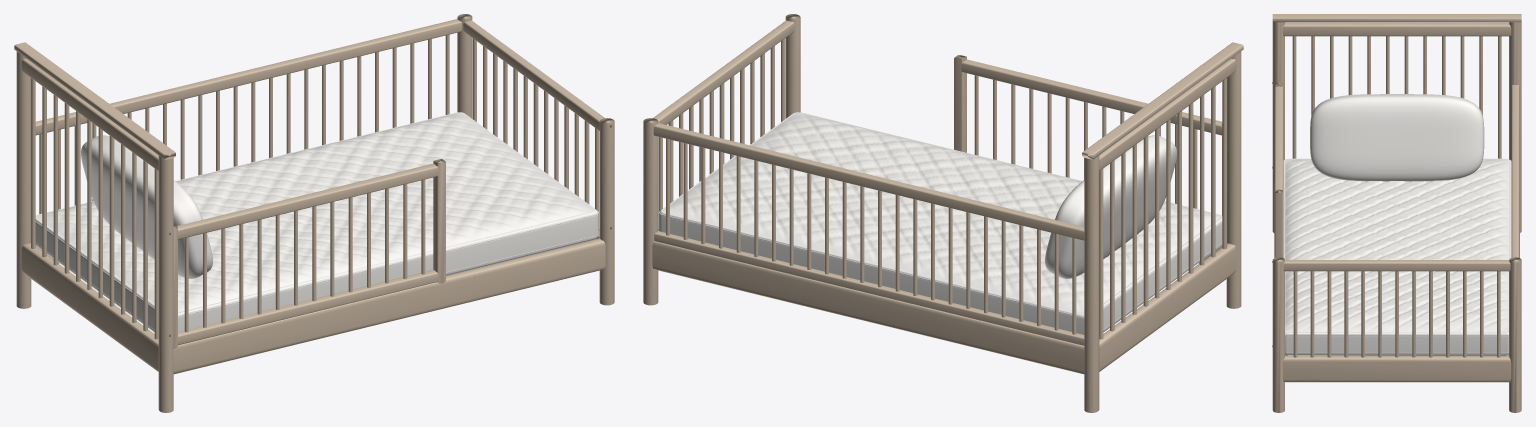
Rendered from bling3_beige_kids.glb.
3 views of the same model, side by side, from view 1: azimuth 30°, elevation 25°; view 2: azimuth 150°, elevation 25°; view 3: azimuth 270°, elevation 25° (orthographic). The views are drawn at different scales.
Parts seen in each view (by area): view 1: White diamond quilted comforter, Solid long base rail, Rounded bed post (×4), Fitted ivory mattress covering bed deck 2000 x 1110 x 120 mm, Soft white rectangular pillow, Back full top rail, End base rail, Front fixed top rail, Front fixed lower rail, Head floating crown, Foot upper rail, Head upper cross rail (+14 smaller); view 2: White diamond quilted comforter, Solid long base rail, Rounded bed post (×4), Fitted ivory mattress covering bed deck 2000 x 1110 x 120 mm, Soft white rectangular pillow, Back full top rail, Back lower rail, End base rail, Front fixed top rail, Head floating crown, Foot upper rail, Head upper cross rail (+14 smaller); view 3: White diamond quilted comforter, Soft white rectangular pillow, Rounded bed post (×4), End base rail, Fitted ivory mattress covering bed deck 2000 x 1110 x 120 mm, Head upper cross rail, Foot upper rail, Head floating crown, Back full top rail, Front fixed top rail, Front fixed rounded mounting stile, Head vertical spindle 11 (+21 smaller).
Part boxes in pixels (x1,y1,x2,y2): White diamond quilted comforter: (36,112,595,312); Solid long base rail: (173,238,605,374); Rounded bed post (×4): (16,14,614,412); Fitted ivory mattress covering bed deck 2000 x 1110 x 120 mm: (35,112,598,332); Soft white rectangular pillow: (81,135,212,278); Back full top rail: (35,19,462,135); End base rail: (21,243,158,371); Front fixed top rail: (177,163,438,239); Front fixed lower rail: (177,269,438,345); Head floating crown: (14,42,175,159); Foot upper rail: (463,20,604,130); Head upper cross rail: (21,58,158,170); White diamond quilted comforter: (662,112,1221,313); Solid long base rail: (652,241,1084,374); Rounded bed post (×4): (643,14,1241,412); Fitted ivory mattress covering bed deck 2000 x 1110 x 120 mm: (659,112,1222,334); Soft white rectangular pillow: (1045,135,1176,278); Back full top rail: (653,123,1084,240); Back lower rail: (654,231,1084,345); End base rail: (1099,243,1236,371); Front fixed top rail: (961,59,1222,135); Head floating crown: (1082,42,1243,159); Foot upper rail: (653,20,794,124); Head upper cross rail: (1099,58,1236,170); White diamond quilted comforter: (1285,159,1508,331); Soft white rectangular pillow: (1310,94,1484,181); Rounded bed post (×4): (1272,22,1521,412); End base rail: (1283,355,1511,382); Fitted ivory mattress covering bed deck 2000 x 1110 x 120 mm: (1283,158,1511,355); Head upper cross rail: (1283,22,1511,36); Foot upper rail: (1283,260,1510,271); Head floating crown: (1272,14,1521,22); Back full top rail: (1511,85,1519,257); Front fixed top rail: (1274,86,1283,189); Front fixed rounded mounting stile: (1274,189,1283,257); Head vertical spindle 11: (1292,36,1296,158).
Size of the model in its own units: 2.1 by 1.15 by 1.2.
